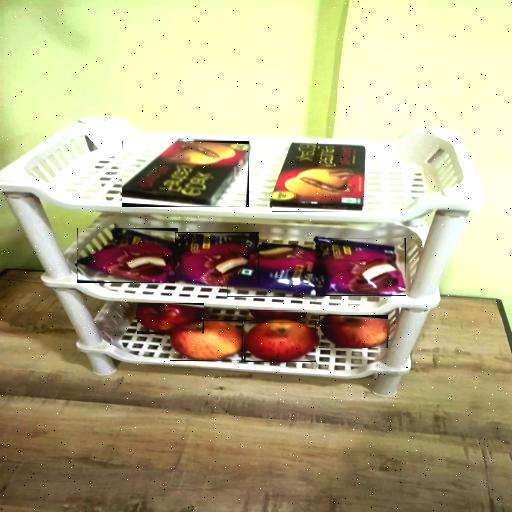Apple: (244, 320, 316, 362), (170, 320, 243, 361), (319, 315, 388, 348), (137, 304, 204, 333), (251, 310, 305, 323)
Choco Fills: (122, 141, 249, 207), (272, 144, 366, 212)
Choco Pie: (77, 228, 178, 283), (316, 238, 406, 296), (227, 245, 324, 297), (175, 233, 259, 285)
